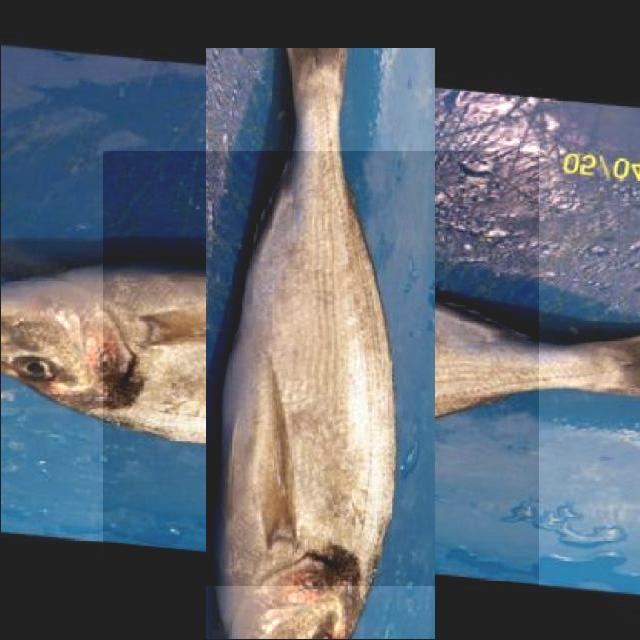Healthy Fish: (102, 151, 538, 586)
